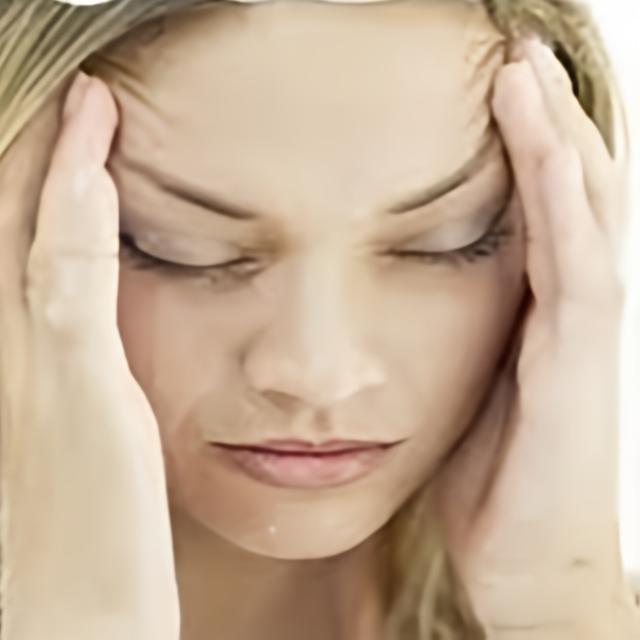sad: (110, 9, 524, 556)
